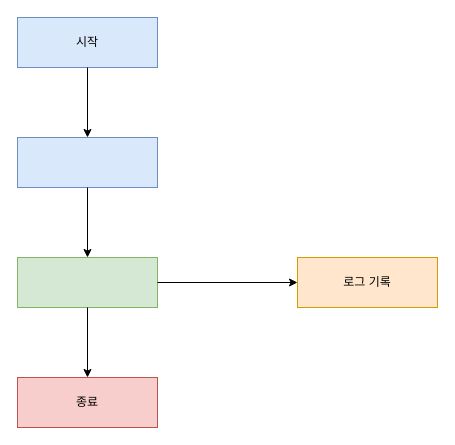
The diagram is 455 pixels wide and 445 high, and some of its shapes have lost their labels. The shapes that lost their labels are listed below. From the top down, each one's box as (x1, y1, x2, y2) in pixels, then its label:
(16, 136, 158, 188): 설정 로드
(16, 256, 158, 308): 센서 읽기
